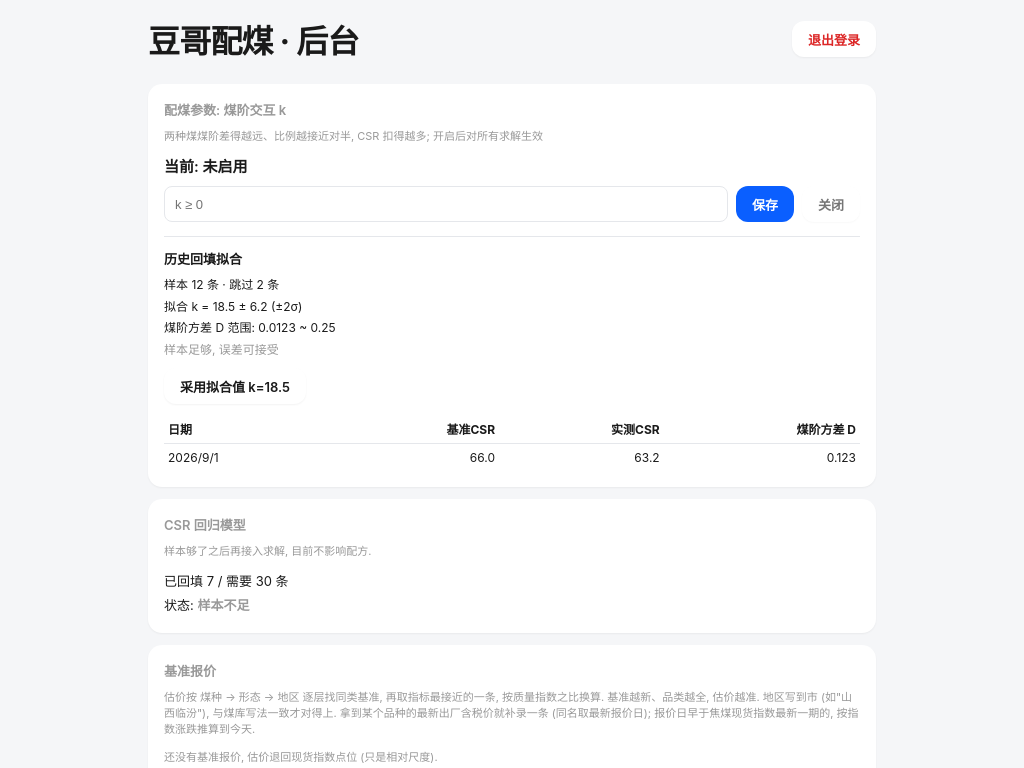
Test: AdminScreen 煤阶交互 k › 未设置时显示未启用, 保存输入值
This screenshot has width=1024, height=768.
Expected: the text "当前: 未启用" is shown, x1=164 y1=157 x2=248 y2=176
In the number field named "煤阶交互 k": [446, 204] box x1=164 y1=186 x2=728 y2=222, type "15"
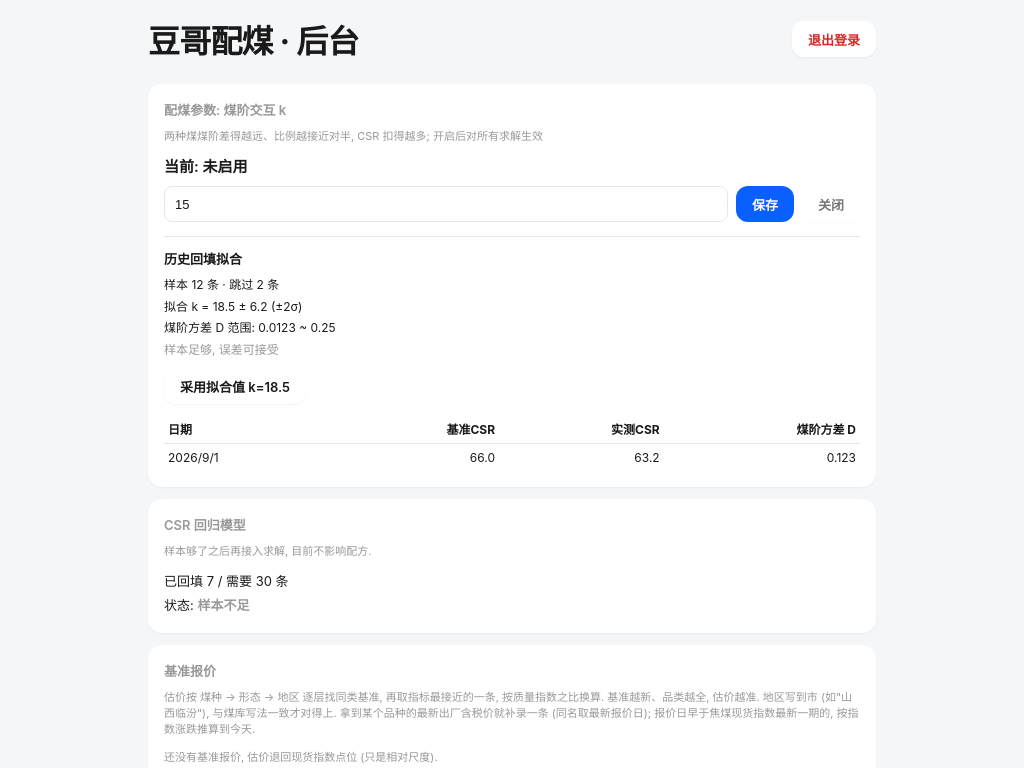
Click the button "保存": [765, 204] box x1=736 y1=186 x2=794 y2=222
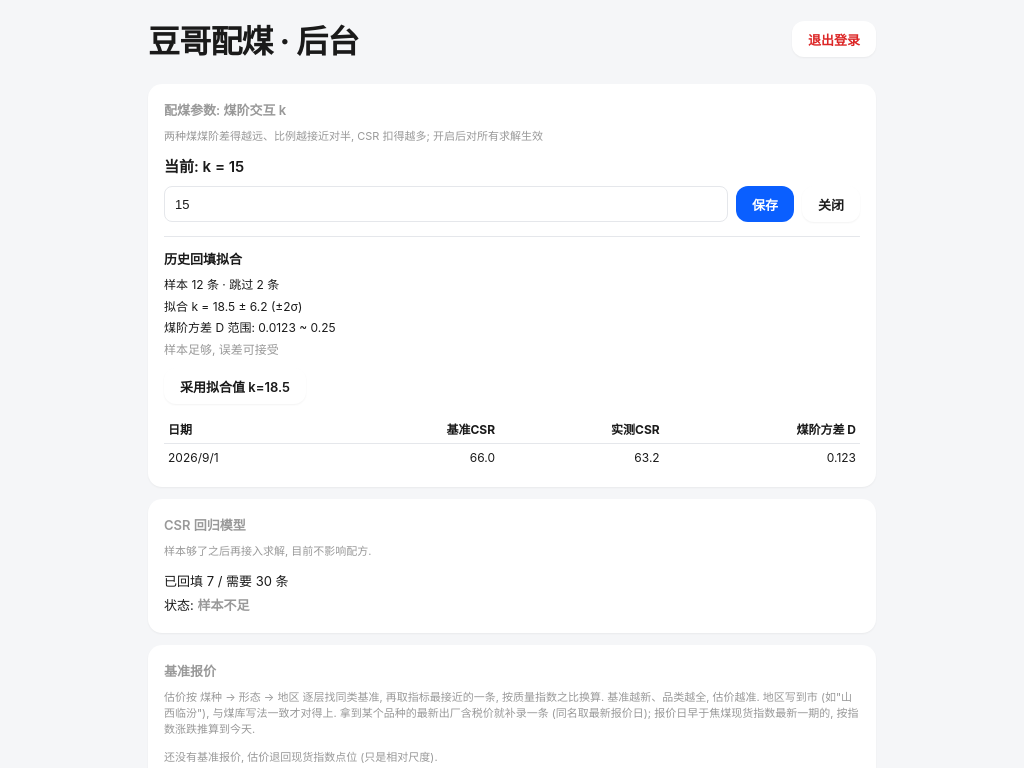
Expected: the text "当前: k = 15" is shown, x1=164 y1=157 x2=244 y2=176
